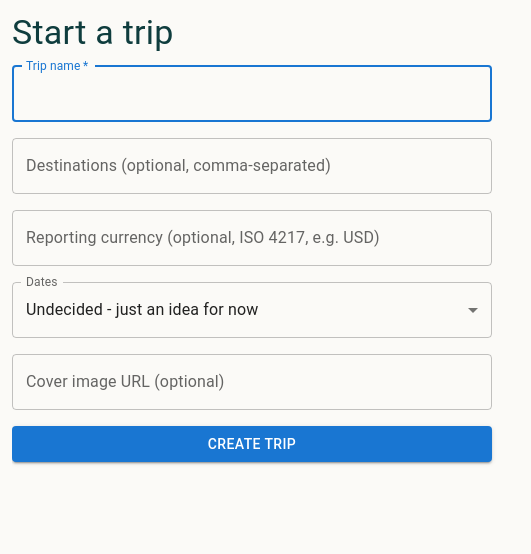
it: CreateTripPage › shows the start/end date fields only once dates are not undecided
The image size is (531, 554).
Click the dropdown.
click(142, 310)  # box x1=26 y1=300 x2=258 y2=319
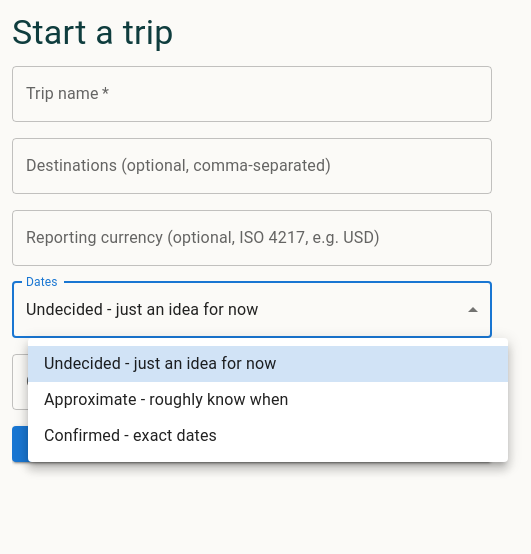
Click the option "Confirmed - exact dates".
click(130, 436)  # box x1=44 y1=426 x2=217 y2=445
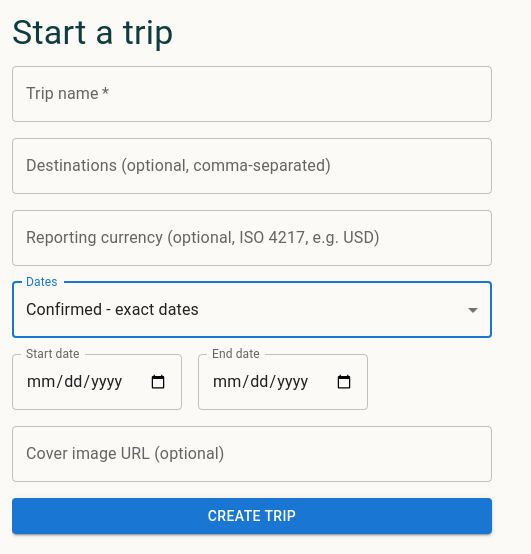
expect the date field with test id "trip-start-date-input" is shown: met, box x1=12 y1=354 x2=182 y2=410
